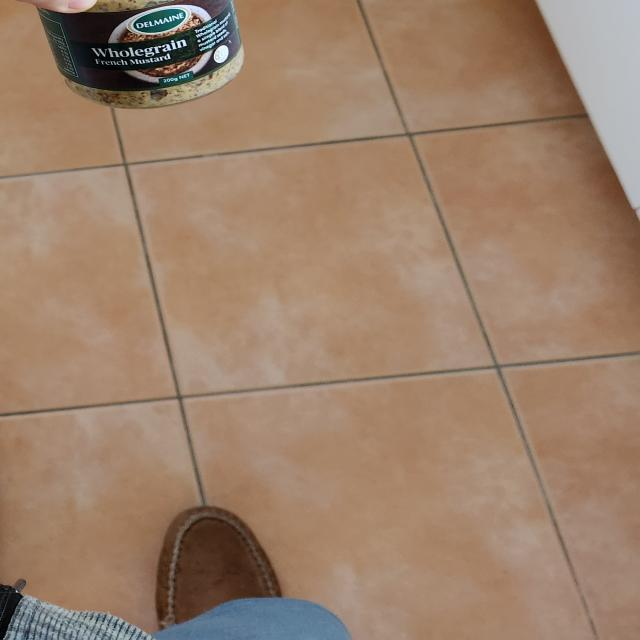mustard: (15, 0, 245, 110)
